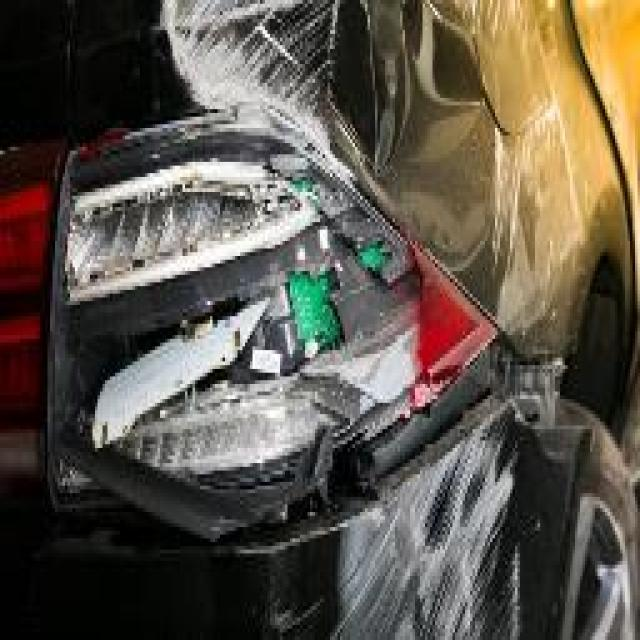Bumper: (0, 397, 599, 640)
Fender: (97, 0, 630, 368)
Light: (62, 137, 499, 516)
